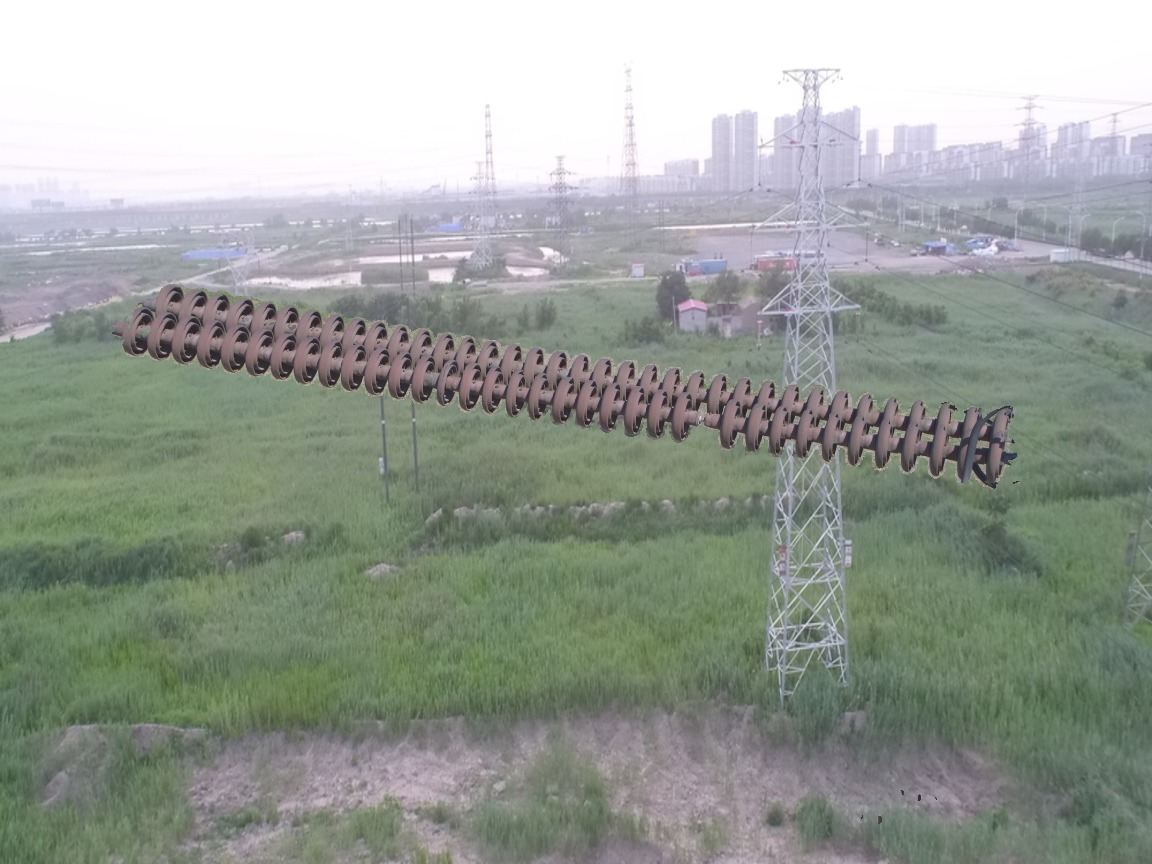defect: (664, 389, 744, 449)
